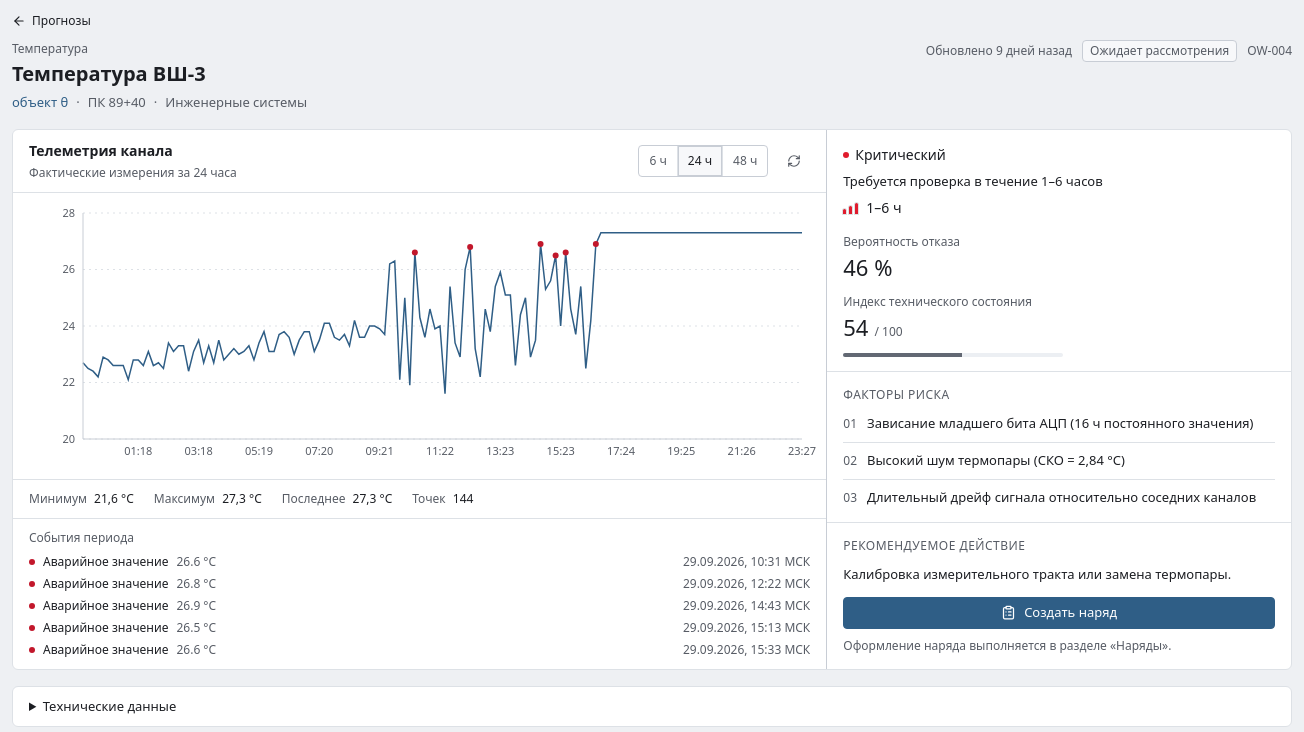
Test: Prediction Investigation › keeps cached telemetry after a failed refresh
Expected: the heading "Температура ВШ-3" is shown, top-left (12, 60), bottom-right (206, 87)
Click the button named "Обновить телеметрию" at (794,160), box top-left (778, 144), bottom-right (810, 176)
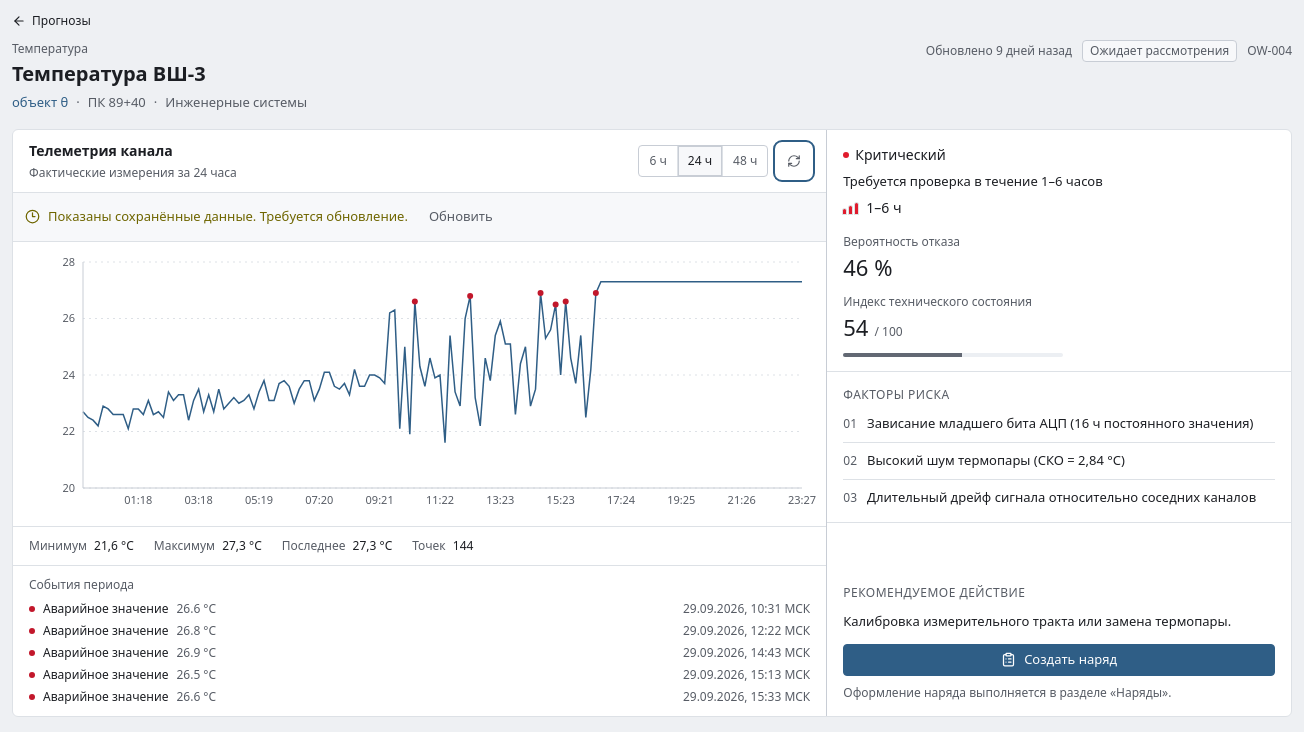
Expected: the text "144" is shown, top-left (453, 536), bottom-right (473, 554)
Now the text "Показаны сохранённые данные. Требуется обновление." is shown, box top-left (48, 207), bottom-right (408, 226)
